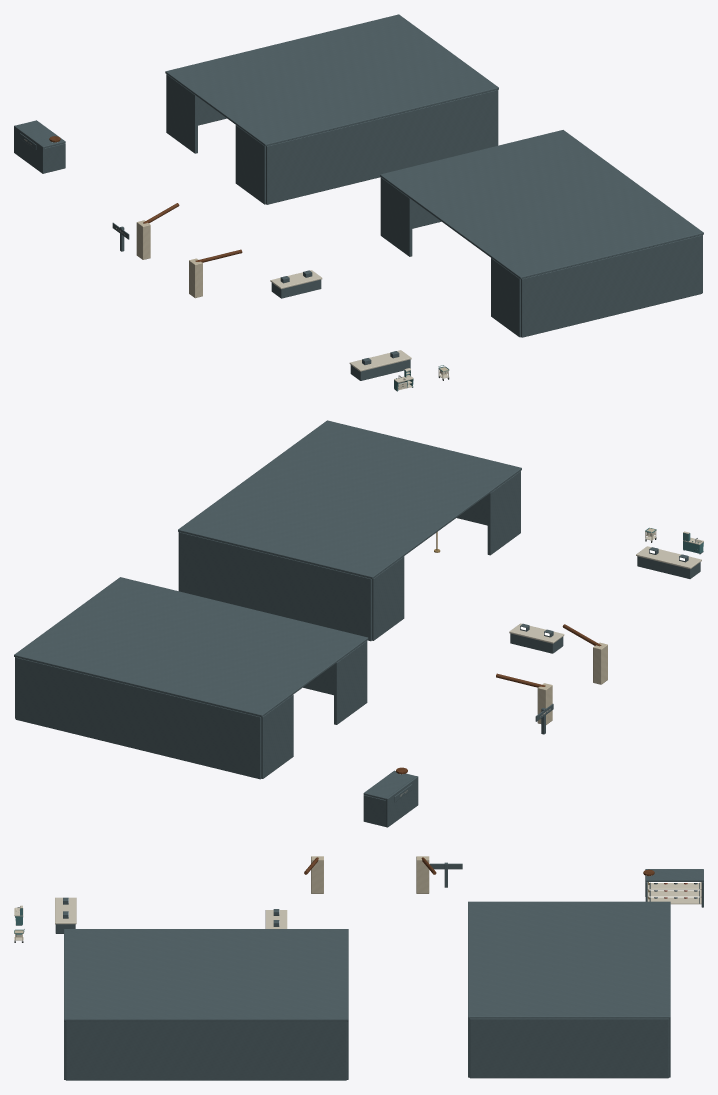
The model's file is SOL_D07_directory_06_source001.glb.
3 views of the same model, one above another, from view 1: azimuth 30°, elevation 25°; view 2: azimuth 150°, elevation 25°; view 3: azimuth 270°, elevation 25° (orthographic). The views are drawn at different scales.
Parts seen in each view (by area): view 1: C_suite_roof1, C_suite_roof0, C_simulation_aft0, C_simulation_aft1, C_suite_threshold_return1_0, C_suite_threshold_return0_0, C_suite_threshold_return0_1, C_suite_threshold_return1_1, C_care_back, C_care_top, C_simulation_technical_base; view 2: C_suite_roof1, C_suite_roof0, C_simulation_fore0, C_simulation_fore1, C_suite_threshold_return0_1, C_suite_threshold_return1_1, C_suite_threshold_return1_0, C_suite_threshold_return0_0, C_care_back, C_care_top, C_simulation_technical_base, C_simulation_technical_top (+1 smaller); view 3: C_suite_roof1, C_suite_roof0, C_simulation_rear1, C_simulation_rear0, C_care_top, C_simulation_technical_top, C_threshold_pier0, C_threshold_pier1, C_suite_dispatch_top, C_care_shelf1.7, C_care_shelf1.02.
Part boxes in pixels (x1,y1,x2,y2): C_suite_roof1: (380, 130, 703, 279); C_suite_roof0: (165, 14, 498, 146); C_simulation_aft0: (266, 90, 497, 204); C_simulation_aft1: (521, 235, 702, 337); C_suite_threshold_return1_0: (380, 177, 412, 256); C_suite_threshold_return0_0: (166, 74, 197, 153); C_suite_threshold_return0_1: (235, 125, 265, 204); C_suite_threshold_return1_1: (491, 258, 520, 337); C_care_back: (14, 125, 44, 173); C_care_top: (16, 120, 65, 148); C_simulation_technical_base: (350, 359, 410, 380); C_suite_roof1: (178, 420, 521, 578); C_suite_roof0: (14, 577, 368, 717); C_simulation_fore0: (15, 657, 261, 779); C_simulation_fore1: (179, 532, 371, 641); C_suite_threshold_return0_1: (334, 640, 367, 724); C_suite_threshold_return1_1: (487, 471, 520, 555); C_suite_threshold_return1_0: (372, 556, 404, 640); C_suite_threshold_return0_0: (261, 694, 293, 778); C_care_back: (386, 776, 418, 827); C_care_top: (363, 770, 416, 800); C_simulation_technical_base: (637, 556, 700, 578); C_simulation_technical_top: (636, 546, 701, 568); C_suite_roof1: (64, 929, 348, 1021); C_suite_roof0: (468, 901, 670, 1018); C_simulation_rear1: (65, 1021, 346, 1080); C_simulation_rear0: (469, 1018, 668, 1078); C_care_top: (645, 870, 703, 881); C_simulation_technical_top: (55, 897, 76, 924); C_threshold_pier0: (416, 856, 429, 893); C_threshold_pier1: (311, 856, 323, 893); C_suite_dispatch_top: (265, 910, 287, 928); C_care_shelf1.7: (647, 882, 701, 889); C_care_shelf1.02: (647, 890, 701, 897).
Bounding box in the file's own units: 39.31 × 5.8 × 58.92.
Materials: 21 (20 with a texture image).
